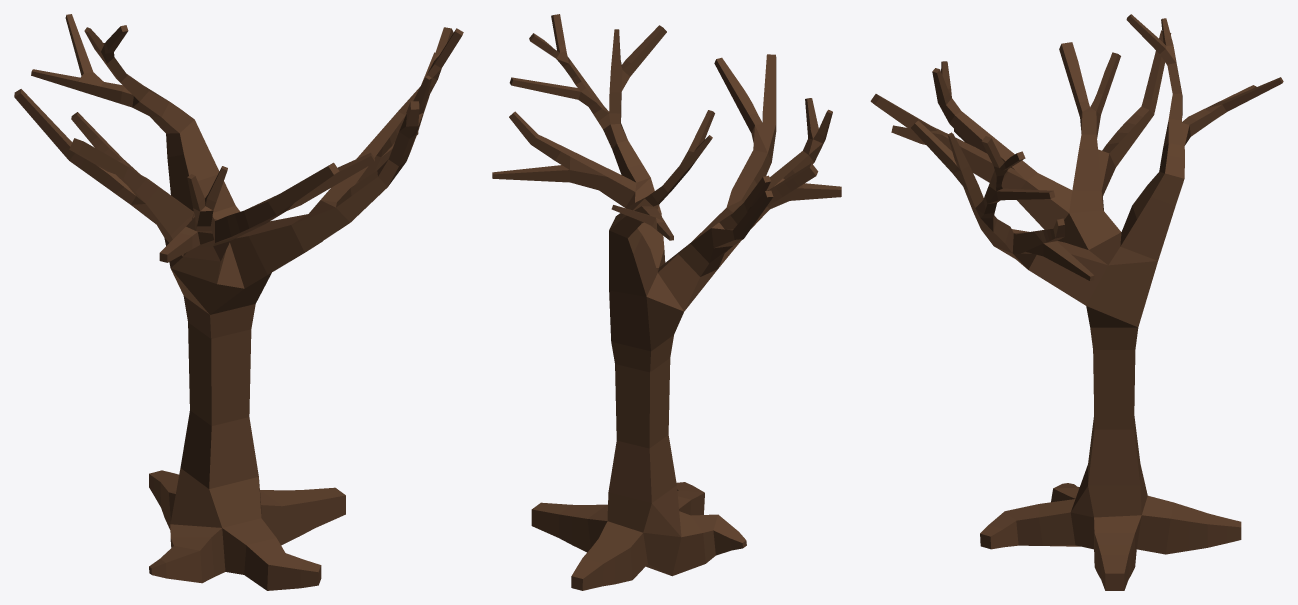
File: Tree.fbx
The picture shows the model from 3 angles, left to right: view 1: azimuth 30°, elevation 25°; view 2: azimuth 150°, elevation 25°; view 3: azimuth 270°, elevation 25°; orthographic projection. The views are drawn at different scales.
Parts seen in each view (by area): view 1: Plane.003; view 2: Plane.003; view 3: Plane.003.
Boxes of the visible parts, <box> form: Plane.003: <box>14,14,463,590</box>; Plane.003: <box>492,14,841,590</box>; Plane.003: <box>870,14,1283,590</box>.
Size of the model in its own units: 123 by 177 by 133.
